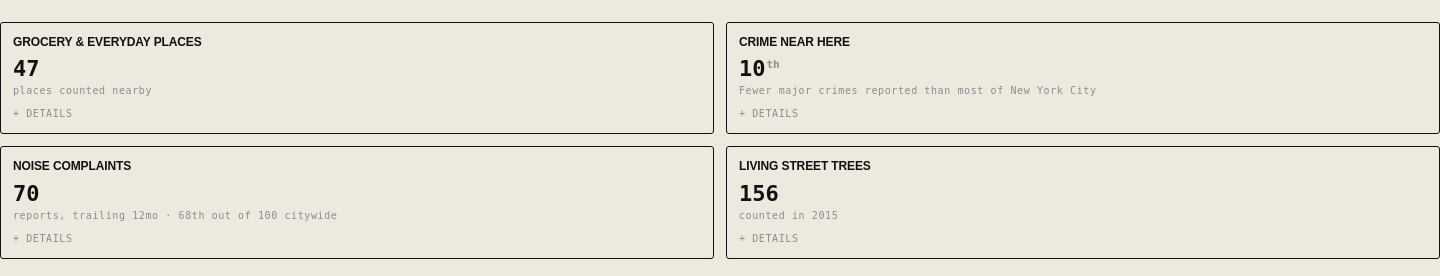
Test: CellReportView -- shared detail region (item 5, no per-tile distortion) › expanding one tile's toggle reveals ONLY that tile's content in the one shared region
// Document order: amenities, crime, noise, trees.
Click the button "+ details" below "counted nearby": (43, 114) [13,106,701,122]
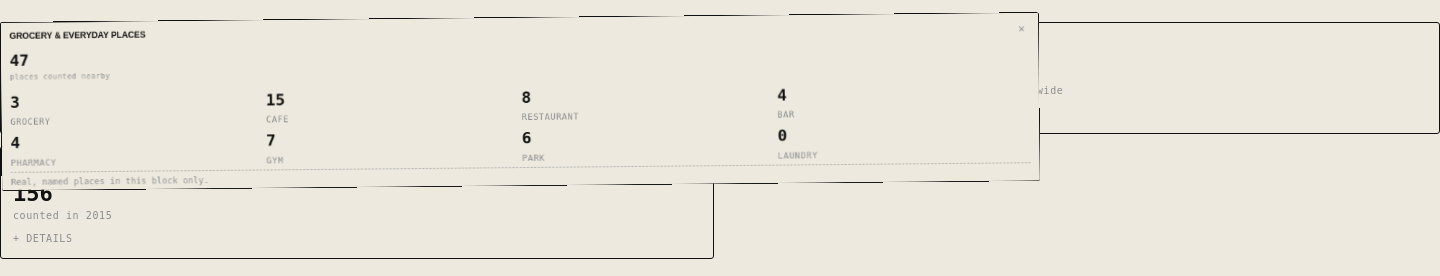
Check: the text "Grocery" is shown, box [14,171,76,187]
Check: the text "3" is shown, box [14,134,29,162]
